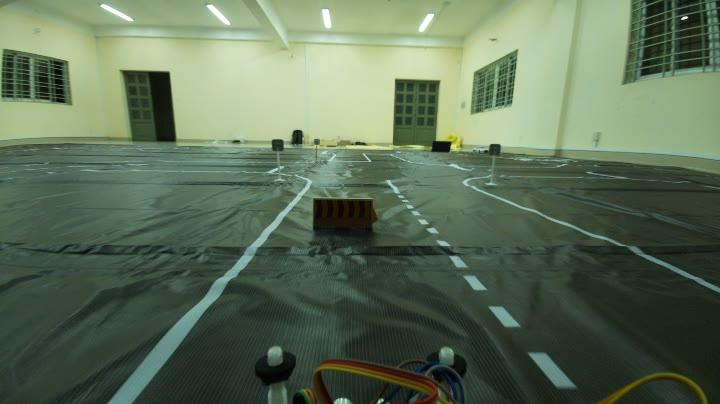roadblock: (306, 190, 390, 238)
